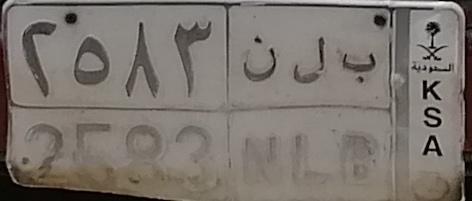2: (22, 20, 68, 183)
3: (172, 20, 219, 195)
5: (72, 34, 117, 193)
8: (122, 21, 166, 192)
B: (342, 51, 379, 186)
L: (292, 35, 334, 188)
N: (243, 33, 282, 189)
